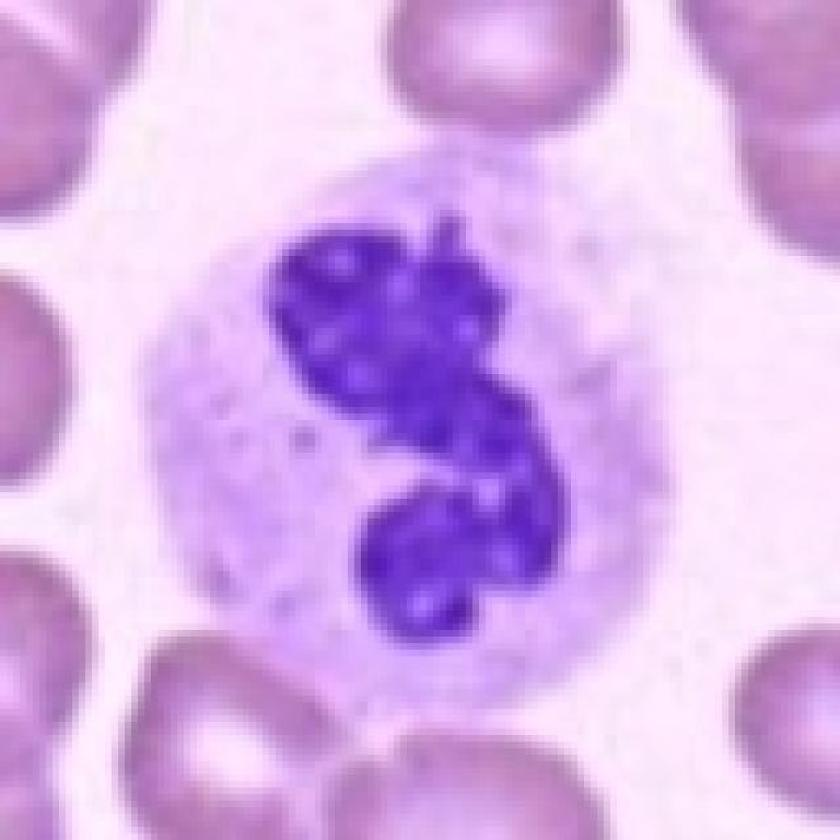neutrophil: (90, 172, 762, 674)
